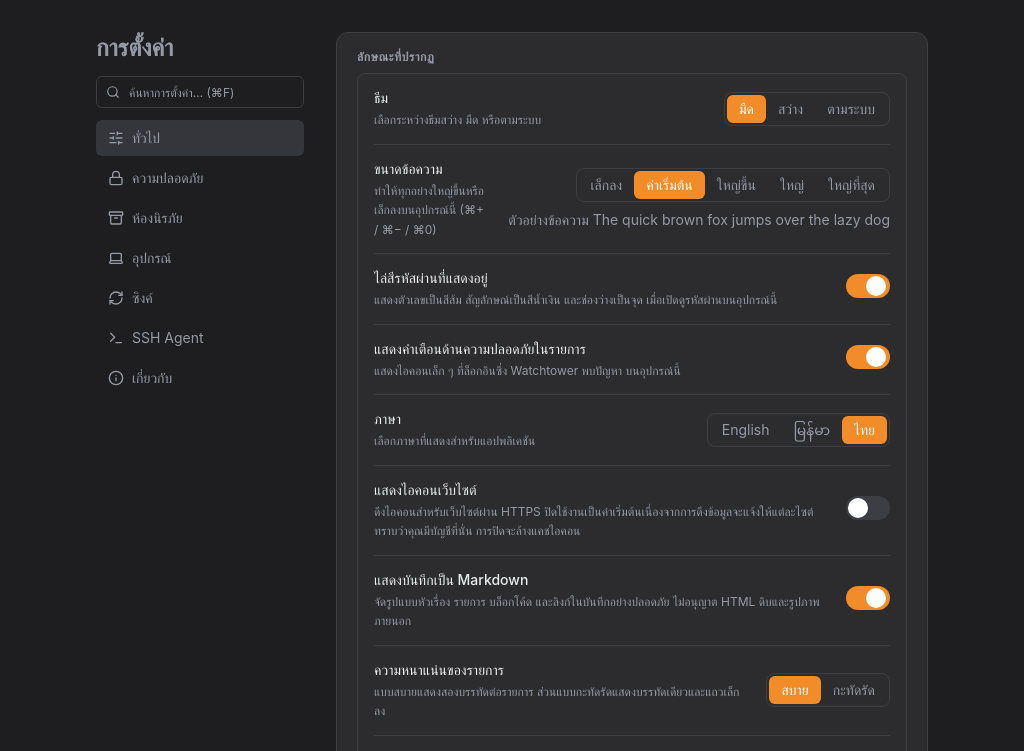
Test case: Settings search and consistent layout › supports localized searching in Thai (th)
Note: Search for password in Thai: รหัสผ่าน
Type "รหัสผ่าน" into the search field with test id "settings-search-input".
click(200, 92); type("รหัสผ่าน")  # box x1=96 y1=76 x2=304 y2=108
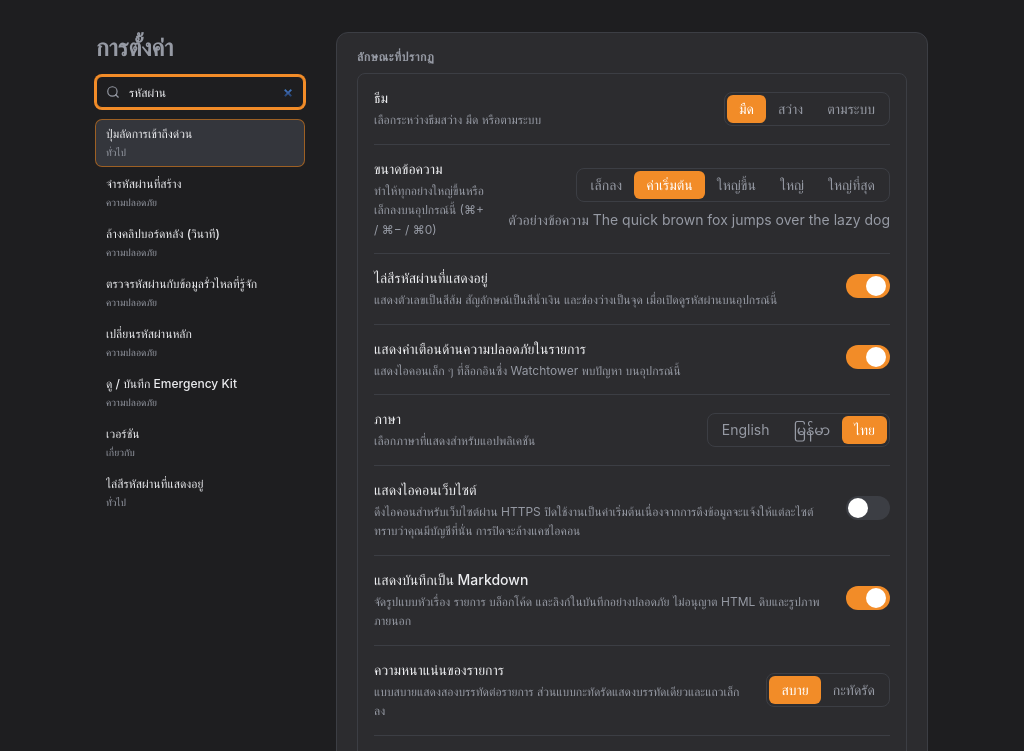
Check: the list with test id "settings-search-results" is shown, box x1=96 y1=120 x2=304 y2=516
Check: the text "เปลี่ยนรหัสผ่านหลัก" is shown, box x1=106 y1=326 x2=192 y2=342
